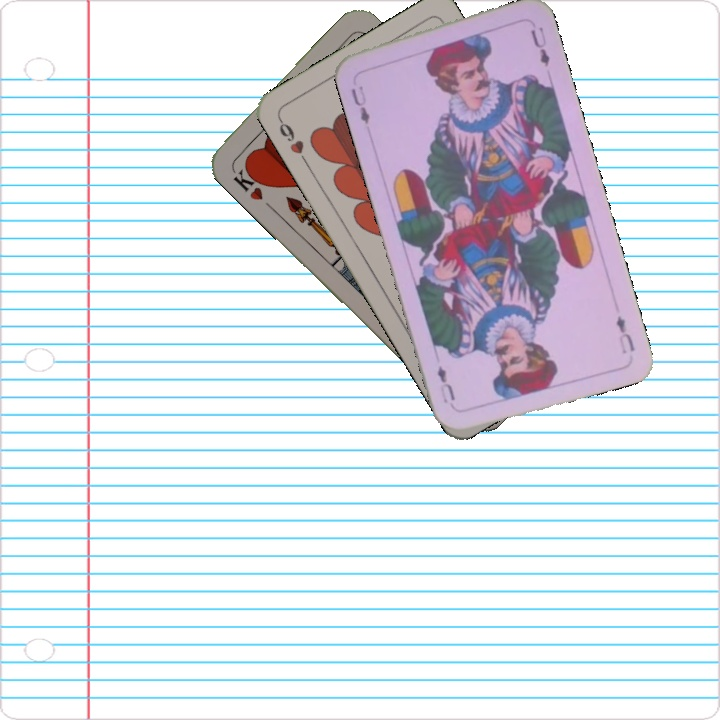EU: (347, 81, 373, 127), (612, 311, 637, 356)
H9: (274, 114, 311, 167)
HK: (226, 160, 271, 203)
